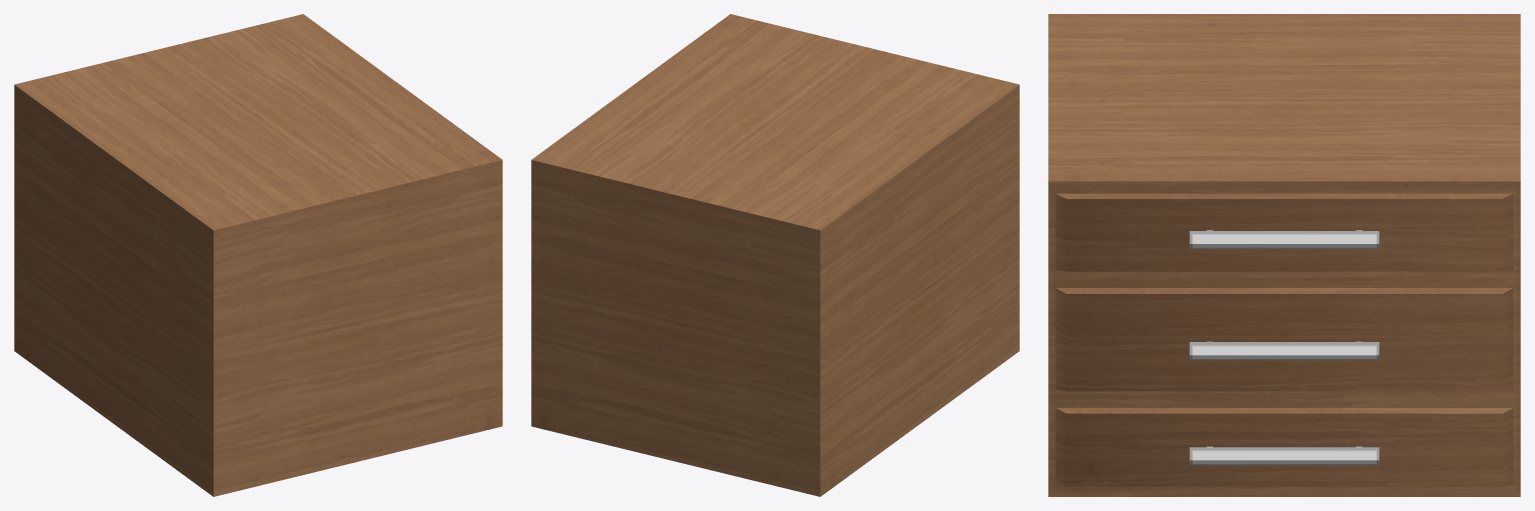
The model's file is store_shelf.fbx.
3 views of the same model, side by side, from view 1: azimuth 30°, elevation 25°; view 2: azimuth 150°, elevation 25°; view 3: azimuth 270°, elevation 25° (orthographic). The views are drawn at different scales.
Visible parts, largest first — view 1: obj1; view 2: obj1; view 3: obj1.
Part boxes in pixels (x1,y1,x2,y2): obj1: [14, 14, 502, 496]; obj1: [531, 14, 1019, 496]; obj1: [1048, 14, 1520, 496].
Bounding box in the file's own units: 1.82 × 1.48 × 2.
1 material, 1 textured.
